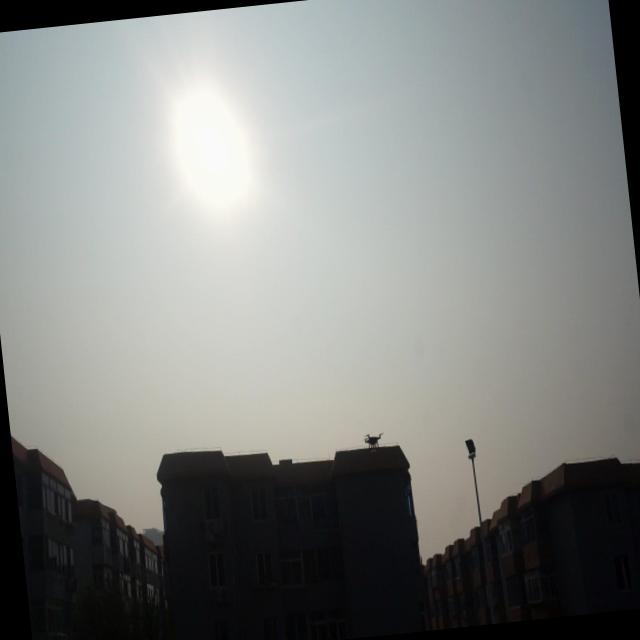drone: (361, 427, 385, 449)
